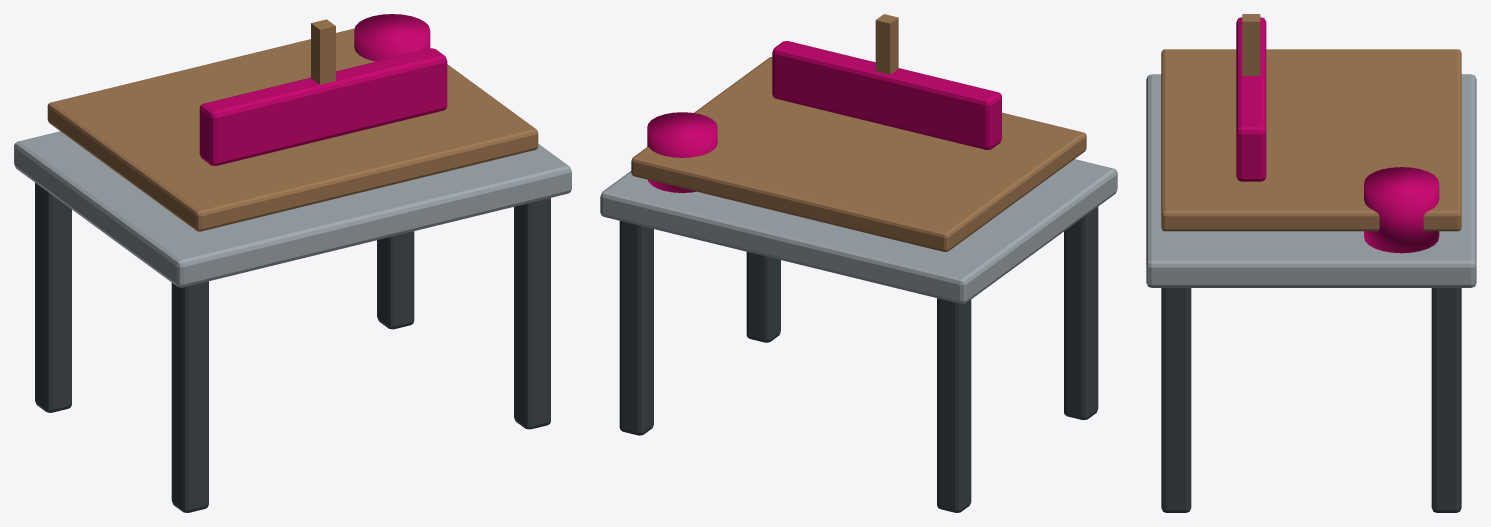
The model's file is m_screen.glb.
3 views of the same model, side by side, from view 1: azimuth 30°, elevation 25°; view 2: azimuth 150°, elevation 25°; view 3: azimuth 270°, elevation 25° (orthographic). The views are drawn at different scales.
Visible parts, largest first — view 1: m_screen; view 2: m_screen; view 3: m_screen.
Part boxes in pixels (box(x1,y1,x2,y2)): m_screen: box(14, 14, 571, 512); m_screen: box(600, 14, 1117, 512); m_screen: box(1146, 14, 1476, 512).
Bounding box in the file's own units: 0.3 × 0.3 × 0.22.
